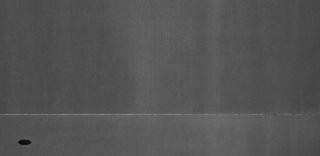punching hole: (14, 138, 36, 146)
welding line: (1, 111, 320, 119)
